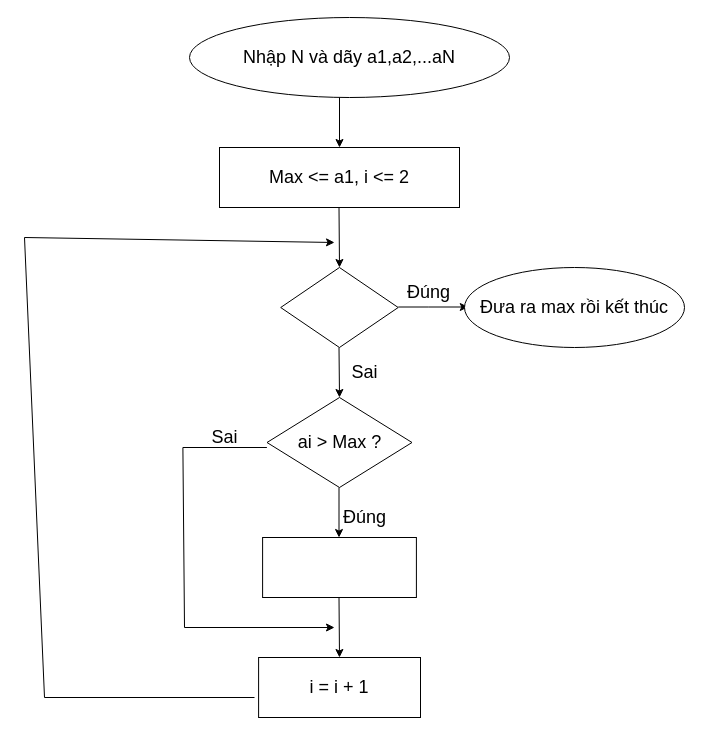
The diagram is 702 pixels wide and 735 high, and some of its shapes have lost their labels. The box of each missing label's shape, as (x1, y1, x2, y2) in pixels:
i >N ?: (280, 266, 398, 348)
Max <= ai: (262, 536, 416, 598)
